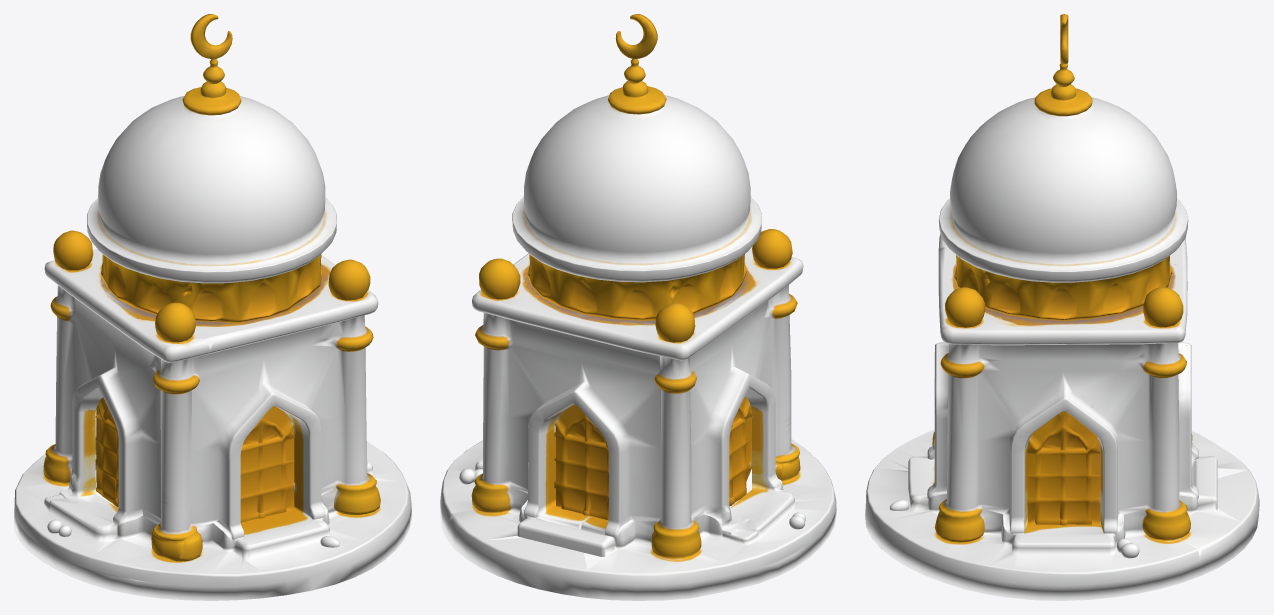
The model's file is brunei-envi-2.glb.
The picture shows the model from 3 angles, left to right: view 1: azimuth 30°, elevation 25°; view 2: azimuth 150°, elevation 25°; view 3: azimuth 270°, elevation 25°; orthographic projection.
Parts seen in each view (by area): view 1: tripo_15306cf8_54c0_40e9_98cf_f91e94181b95; view 2: tripo_15306cf8_54c0_40e9_98cf_f91e94181b95; view 3: tripo_15306cf8_54c0_40e9_98cf_f91e94181b95.
Boxes of the visible parts, <box> form: tripo_15306cf8_54c0_40e9_98cf_f91e94181b95: <box>14,14,411,600</box>; tripo_15306cf8_54c0_40e9_98cf_f91e94181b95: <box>440,14,836,600</box>; tripo_15306cf8_54c0_40e9_98cf_f91e94181b95: <box>865,14,1259,600</box>.
Bounding box in the file's own units: 0.7173 × 0.9995 × 0.7144.
1 material, 1 textured.
